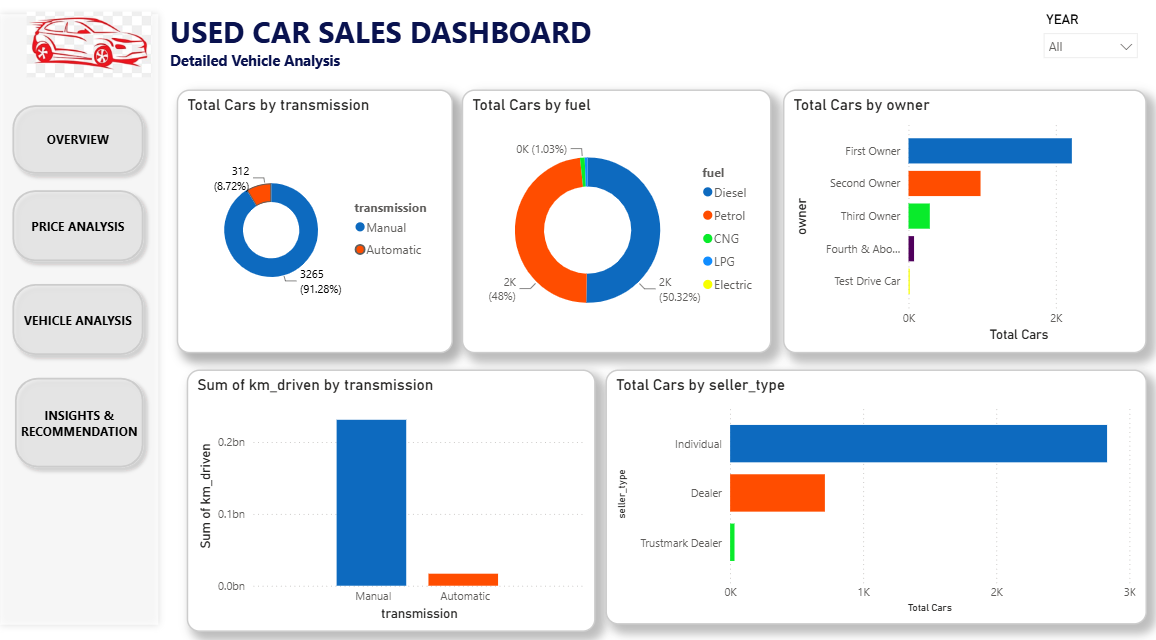

This screenshot's page, from the dashboard's own definition file:
{"tool":"powerbi","page":{"name":"VEHICLE ANALYSIS","canvas":[1280,720],"ordinal":2},"visuals":[{"type":"donutChart","fields":{"Category":["public car.transmission"],"Y":["public car.Total Cars"]},"box":[201.7,107,303.3,289.5],"z":0},{"type":"donutChart","fields":{"Category":["public car.fuel"],"Y":["public car.Total Cars"]},"box":[514.6,107,340.3,289.5],"z":1000},{"type":"barChart","fields":{"Category":["public car.owner"],"Y":["public car.Total Cars"]},"box":[867.2,107,399.3,289.5],"z":2000},{"type":"columnChart","fields":{"Y":["Avg(public car.km_driven)"],"Category":["public car.transmission"]},"box":[212.7,414.4,448.7,288.2],"z":3000},{"type":"barChart","fields":{"Y":["public car.Total Cars"],"Category":["public car.seller_type"]},"box":[672.4,414.4,594.2,279.9],"z":4000},{"type":"textbox","box":[189.4,16.5,1077.2,81],"z":5000},{"type":"slicer","fields":{"Values":["public car.year"]},"box":[1143.1,16.5,123.5,56.3],"z":6000},{"type":"shape","box":[0,16.5,189.4,686.1],"z":7000},{"type":"actionButton","box":[15.1,414.4,159.2,116.6],"z":8000},{"type":"actionButton","box":[12.3,311.5,161.9,96.1],"z":9000},{"type":"actionButton","box":[12.3,208.6,161.9,96.1],"z":10000},{"type":"actionButton","box":[12.3,115.3,161.9,93.3],"z":11000},{"type":"image","box":[37,0,137.2,115.3],"z":12000}]}

Visuals, with their boxes in screenshot pixels (x1, y1, x2, y2), scaled from the page's 1280x720 canvas onto the 1156x640 screenshot:
donutChart - public car.transmission x public car.Total Cars: <bbox>182, 95, 456, 352</bbox>
donutChart - public car.fuel x public car.Total Cars: <bbox>465, 95, 772, 352</bbox>
barChart - public car.owner x public car.Total Cars: <bbox>783, 95, 1144, 352</bbox>
columnChart - Avg(public car.km_driven) x public car.transmission: <bbox>192, 368, 597, 625</bbox>
barChart - public car.Total Cars x public car.seller_type: <bbox>607, 368, 1144, 617</bbox>
textbox: <bbox>171, 15, 1144, 87</bbox>
slicer - public car.year: <bbox>1032, 15, 1144, 65</bbox>
shape: <bbox>0, 15, 171, 625</bbox>
actionButton: <bbox>14, 368, 157, 472</bbox>
actionButton: <bbox>11, 277, 157, 362</bbox>
actionButton: <bbox>11, 185, 157, 271</bbox>
actionButton: <bbox>11, 102, 157, 185</bbox>
image: <bbox>33, 0, 157, 102</bbox>
